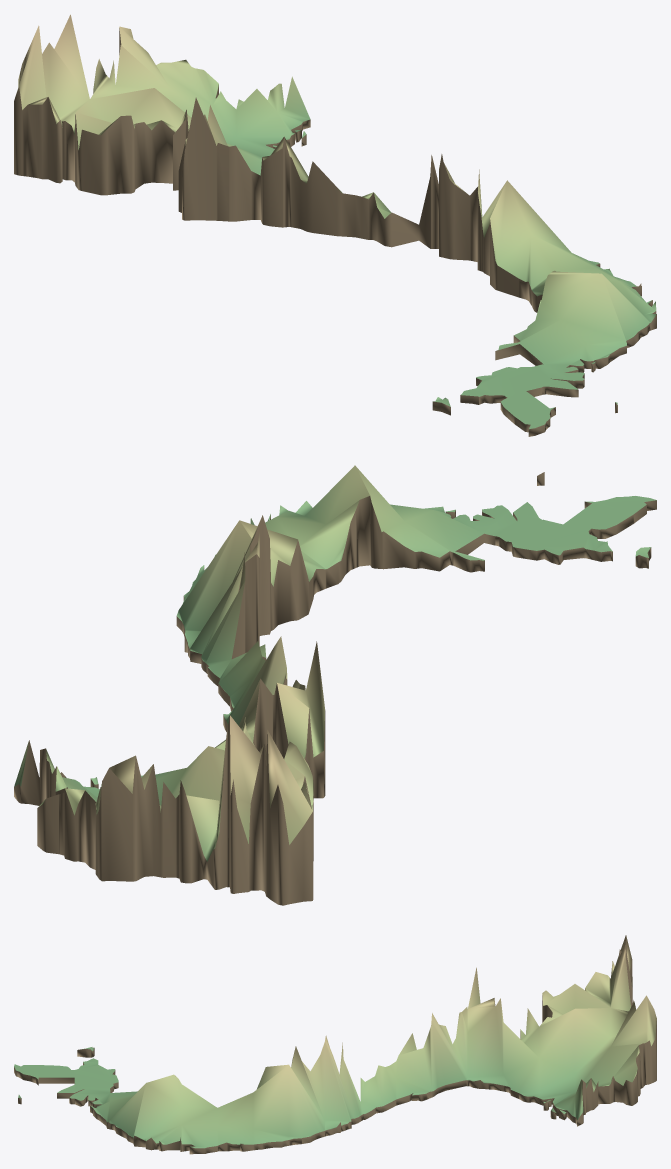
File: VNM.glb
The picture shows the model from 3 angles, top to bottom: view 1: azimuth 30°, elevation 25°; view 2: azimuth 150°, elevation 25°; view 3: azimuth 270°, elevation 25°; orthographic projection. The views are drawn at different scales.
Parts seen in each view (by area): view 1: VNM; view 2: VNM; view 3: VNM.
Part boxes in pixels (x1=…): VNM: x1=14, y1=14, x2=656, y2=436; VNM: x1=14, y1=465, x2=656, y2=905; VNM: x1=14, y1=935, x2=656, y2=1154.
Bounding box in the file's own units: 0.868 × 0.338 × 1.85.
